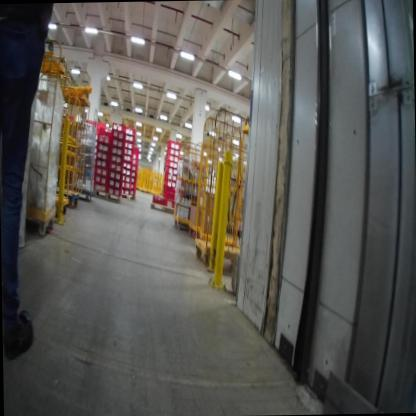pallet: (92, 188, 121, 203), (147, 200, 178, 214), (120, 187, 137, 201)
